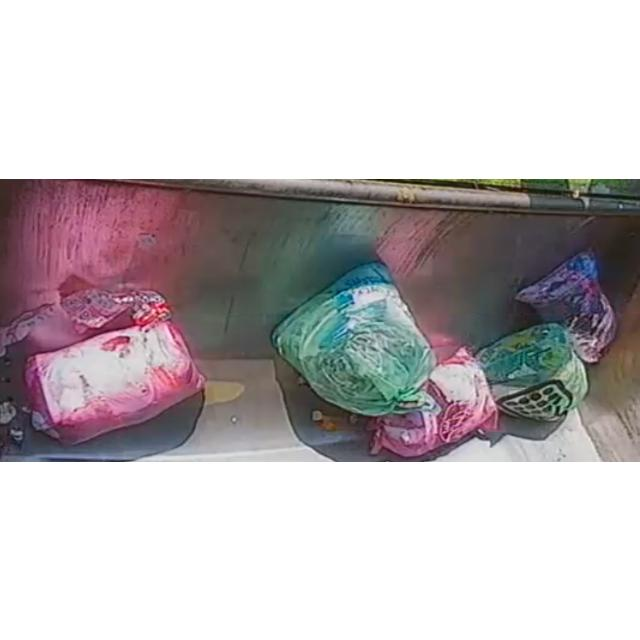general_trashbag: (271, 262, 435, 415), (476, 322, 588, 420)
other_trashbag: (25, 319, 205, 443), (368, 347, 498, 456), (515, 249, 616, 362)
